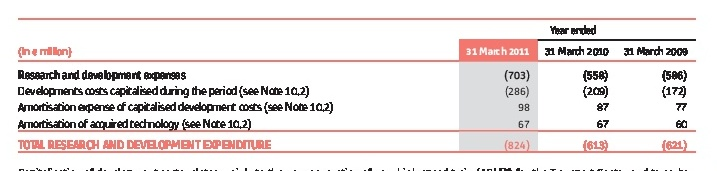table: (0, 0, 717, 171)
